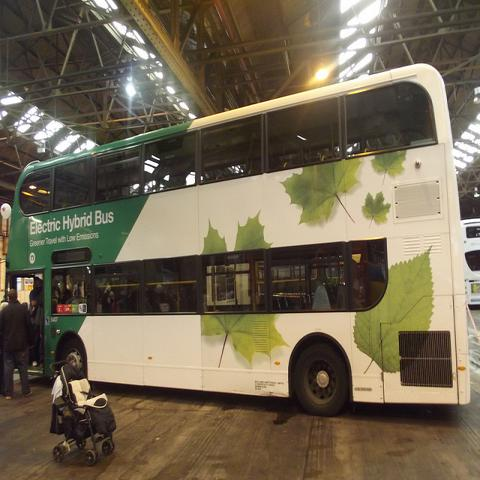bus: (8, 62, 471, 424)
